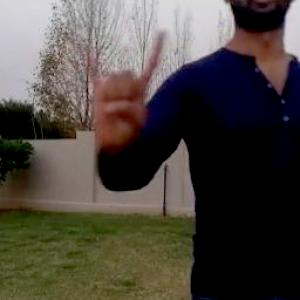takeoff-hand: (77, 23, 168, 150)
